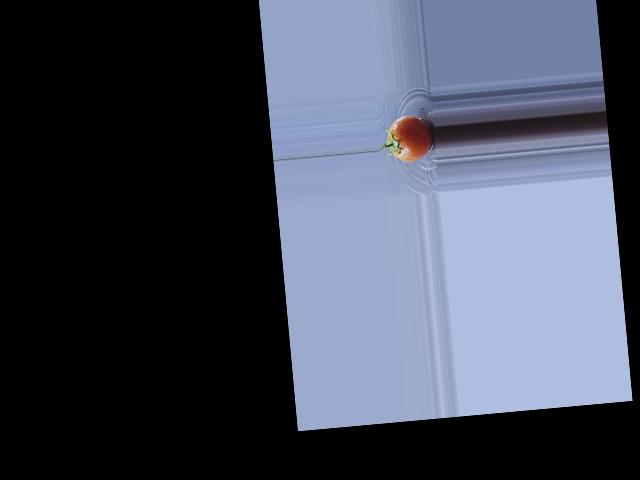tomato: (386, 114, 434, 163)
